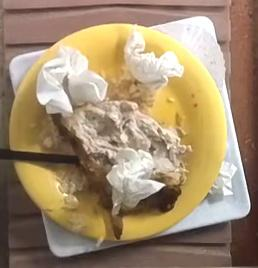chicken: (111, 69, 153, 111)
pork: (61, 99, 192, 215)
